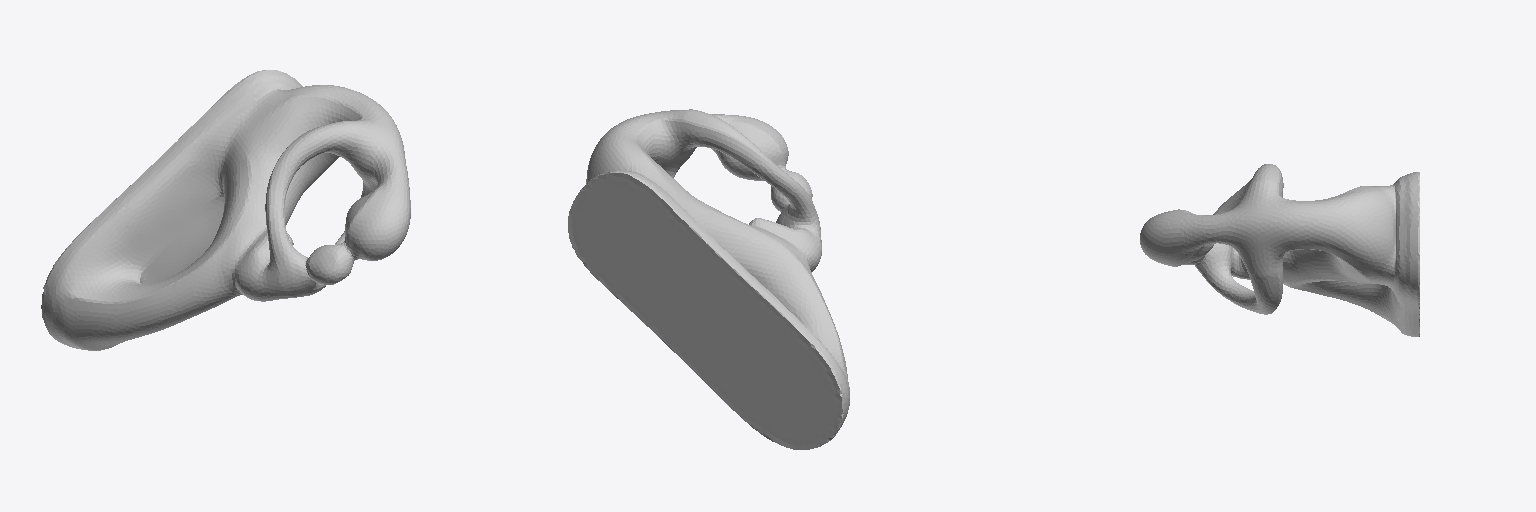
File: motherChild_10k.obj
The picture shows the model from 3 angles: view 1: azimuth 30°, elevation 25°; view 2: azimuth 150°, elevation 25°; view 3: azimuth 270°, elevation 25°; orthographic projection.
Bounding box in the file's own units: 125 × 98.19 × 105.